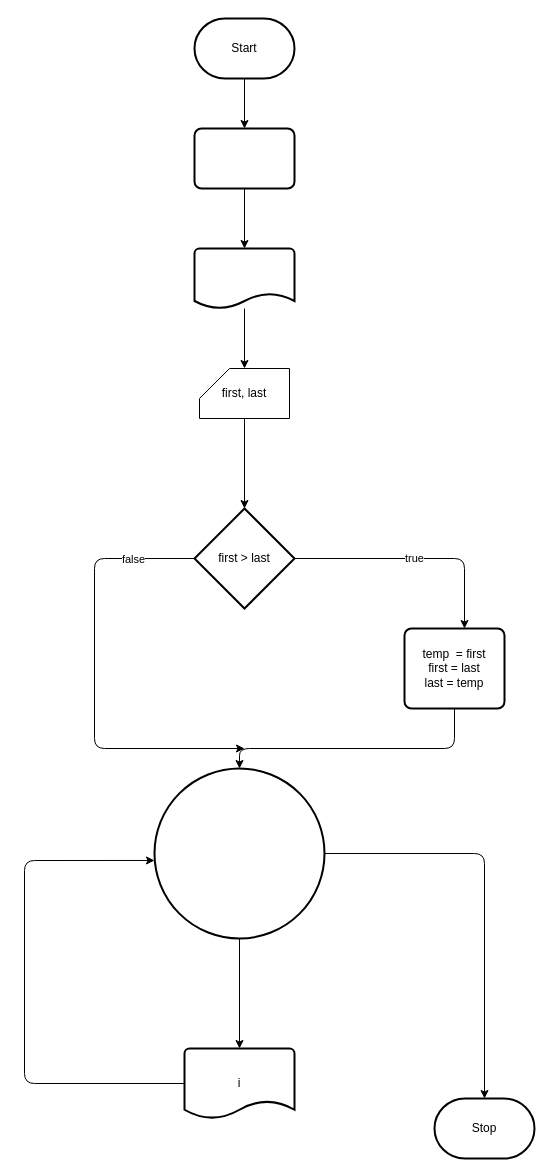
Image size: 553x1176. Some labels were removed from this diagram. The box of each missing label's shape, as (x1, y1, x2, y2) in pixels:
"Enter two numbers:": (193, 247, 295, 309)
first, last, temp: (193, 127, 295, 189)
for i = first; i <= last; i = i + 1: (153, 767, 325, 939)
